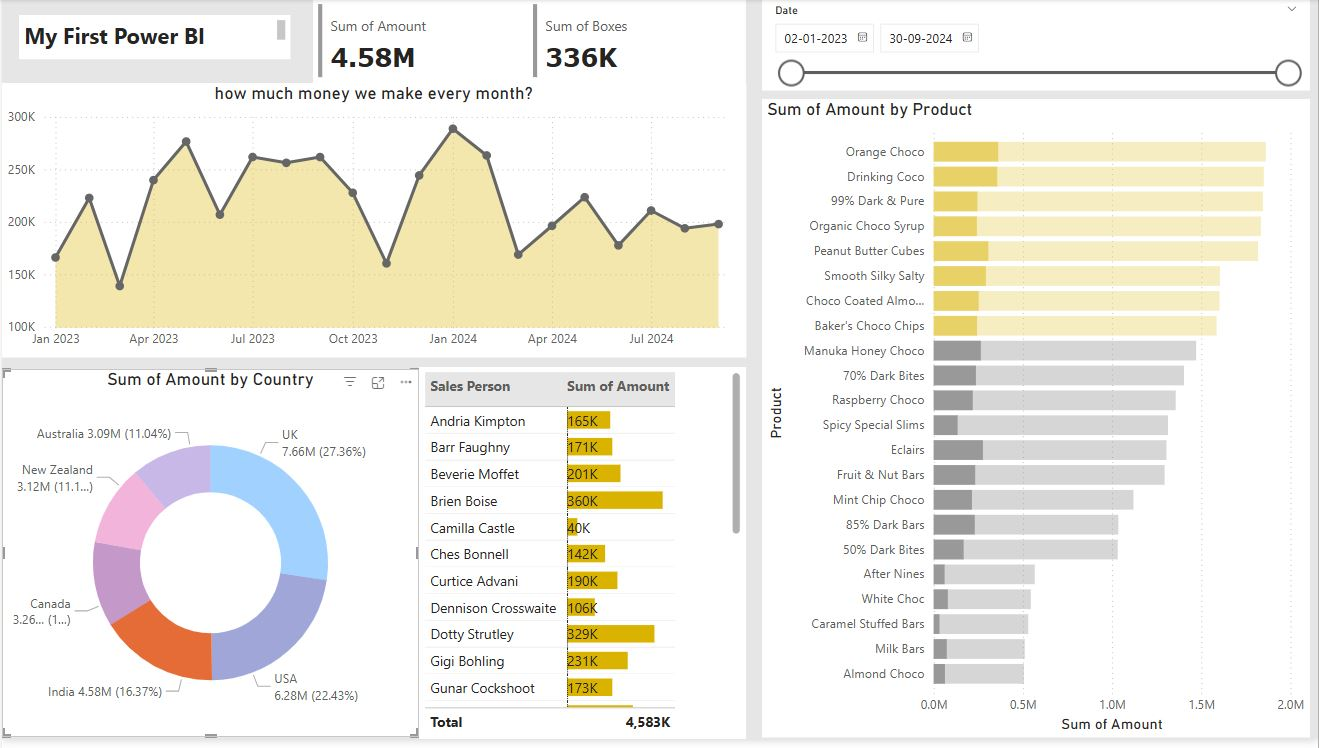

The page's visual inventory and layout, read from the dashboard file:
{"tool":"powerbi","page":{"name":"Page 2","canvas":[1280,720],"ordinal":1},"visuals":[{"type":"lineChart","title":"how much money we make every month?","fields":{"Category":["data.Date.Variation.Date Hierarchy.Year","data.Date.Variation.Date Hierarchy.Quarter","data.Date.Variation.Date Hierarchy.Month","data.Date.Variation.Date Hierarchy.Day"],"Y":["data.Amount"]},"box":[0,81.7,723.6,267.5],"z":0},{"type":"donutChart","fields":{"Y":["data.Amount"],"Category":["data.Country"]},"box":[0,359.9,405.6,357.9],"z":1000},{"type":"tableEx","fields":{"Values":["data.Sales Person","data.Amount"]},"box":[405.6,357.9,318.1,361.8],"z":2000},{"type":"clusteredBarChart","fields":{"Category":["data.Product"],"Y":["data.Amount"]},"box":[739.2,97.3,533,620.5],"z":3000},{"type":"cardVisual","fields":{"Data":["data.Amount","data.Boxes"]},"box":[302.5,0,421.2,81.7],"z":4000},{"type":"slicer","fields":{"Values":["data.Date"]},"box":[739.2,0,533,88.5],"z":5000},{"type":"textbox","box":[16.5,15.6,263.6,42.8],"z":6000}]}

Visuals, with their boxes in screenshot pixels (x1, y1, x2, y2), scaled from the page's 1280x720 canvas onto the 1319x748 screenshot:
"how much money we make every month?" lineChart: pyautogui.locateOnScreen(0, 85, 746, 363)
donutChart - data.Amount x data.Country: pyautogui.locateOnScreen(0, 374, 418, 746)
tableEx - data.Sales Person x data.Amount: pyautogui.locateOnScreen(418, 372, 746, 747)
clusteredBarChart - data.Product x data.Amount: pyautogui.locateOnScreen(762, 101, 1311, 746)
cardVisual - data.Amount x data.Boxes: pyautogui.locateOnScreen(312, 0, 746, 85)
slicer - data.Date: pyautogui.locateOnScreen(762, 0, 1311, 92)
textbox: pyautogui.locateOnScreen(17, 16, 289, 61)
